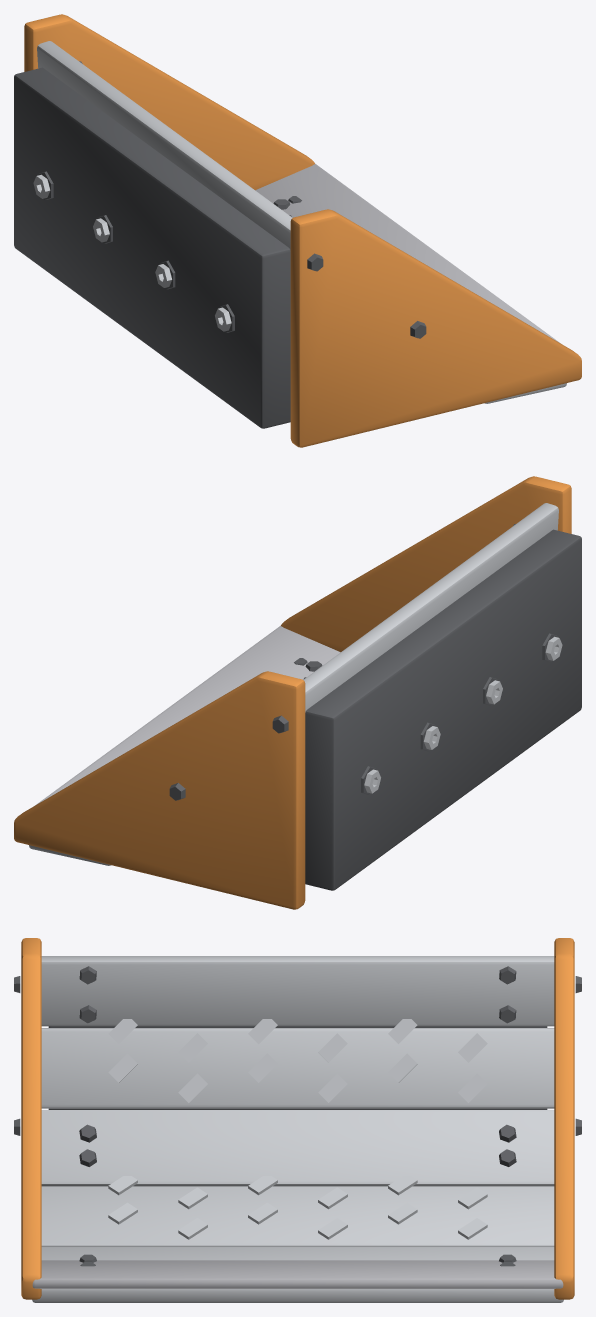
File: scoop.glb
3 views of the same model, one above another, from view 1: azimuth 30°, elevation 25°; view 2: azimuth 150°, elevation 25°; view 3: azimuth 270°, elevation 25° (orthographic).
Parts seen in each view (by area): view 1: body; view 2: body; view 3: body.
Part boxes in pixels (bbox=[...]): body: bbox=[14, 14, 581, 447]; body: bbox=[14, 476, 581, 909]; body: bbox=[14, 938, 581, 1302].
Size of the model in its own units: 0.3228 by 0.2279 by 0.501.
